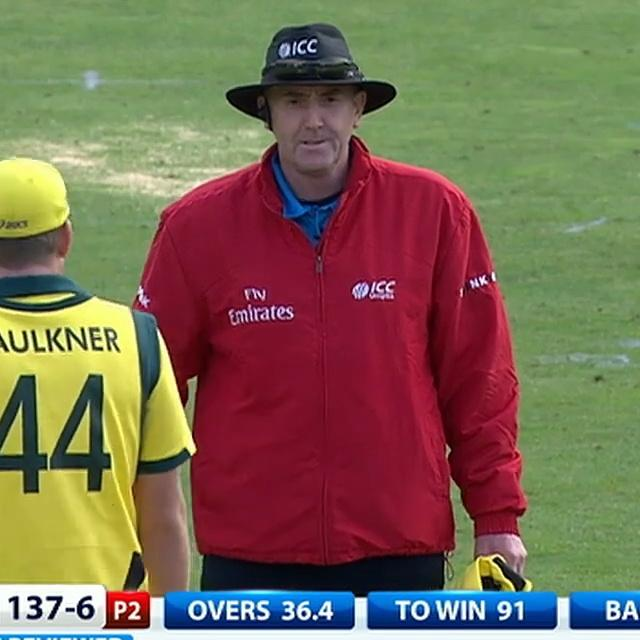umpire: (107, 0, 560, 595)
